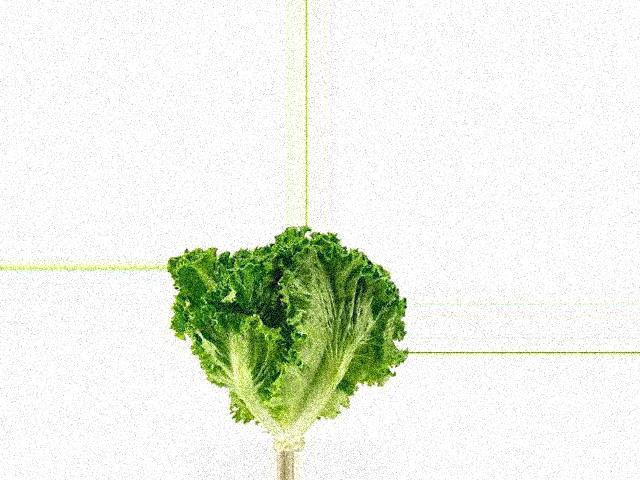lettuce: (139, 234, 309, 333)
